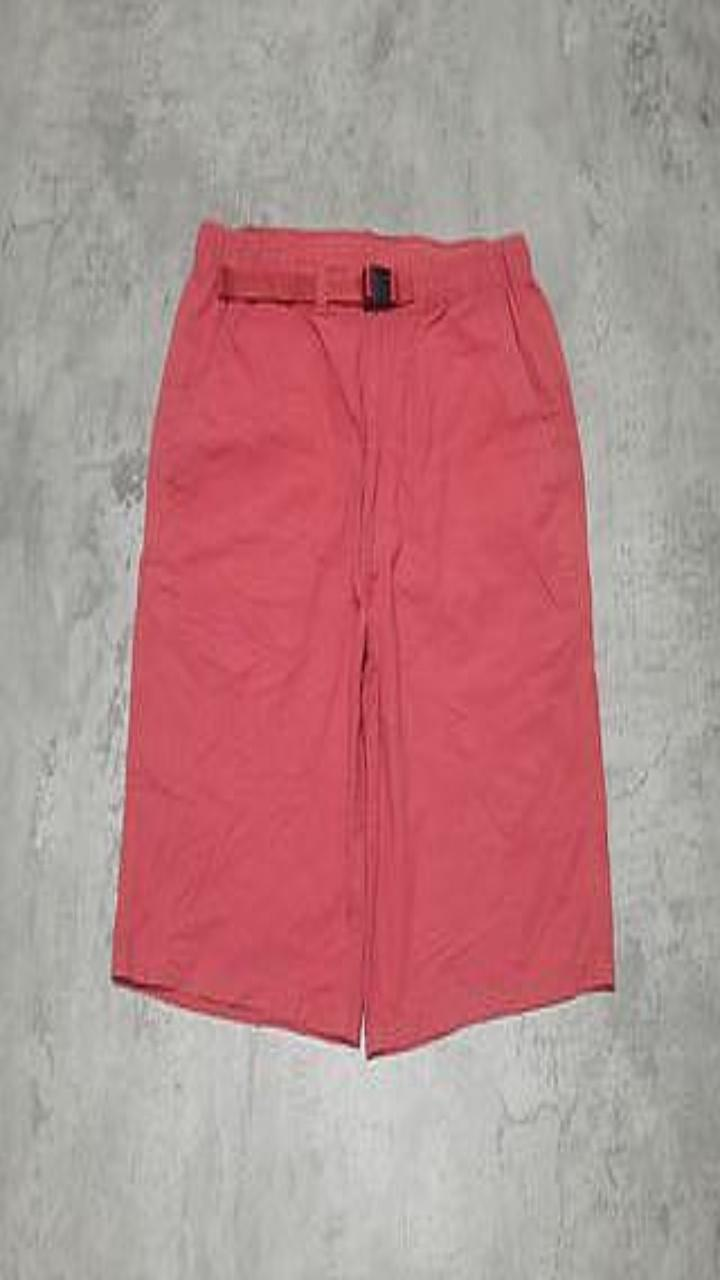Shorts: (112, 221, 613, 1056)
